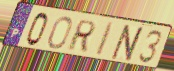0: (26, 12, 50, 47)
3: (138, 29, 163, 65)
I: (94, 22, 116, 58)
N: (109, 24, 147, 64)
O: (47, 15, 73, 50)
R: (65, 19, 98, 53)
